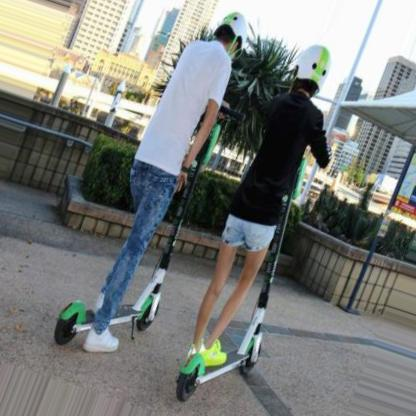scooter: (53, 101, 247, 348), (175, 124, 328, 401)
with helmet: (286, 45, 332, 99), (214, 10, 249, 61)
